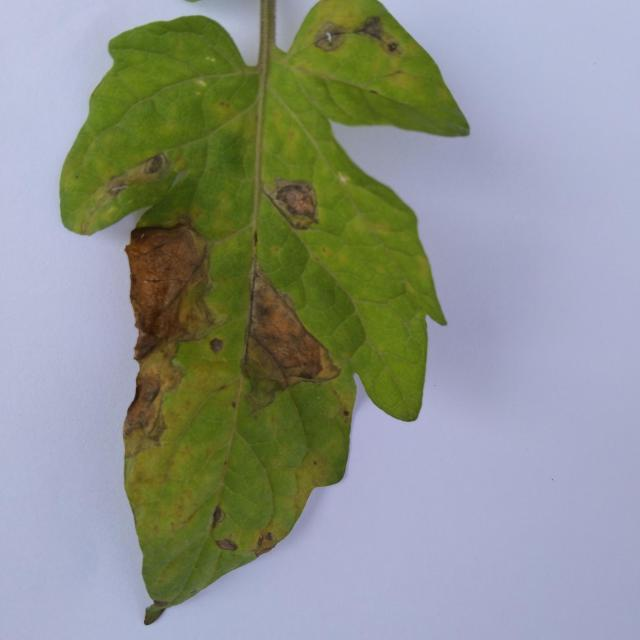Early Blight: (61, 0, 474, 624)
